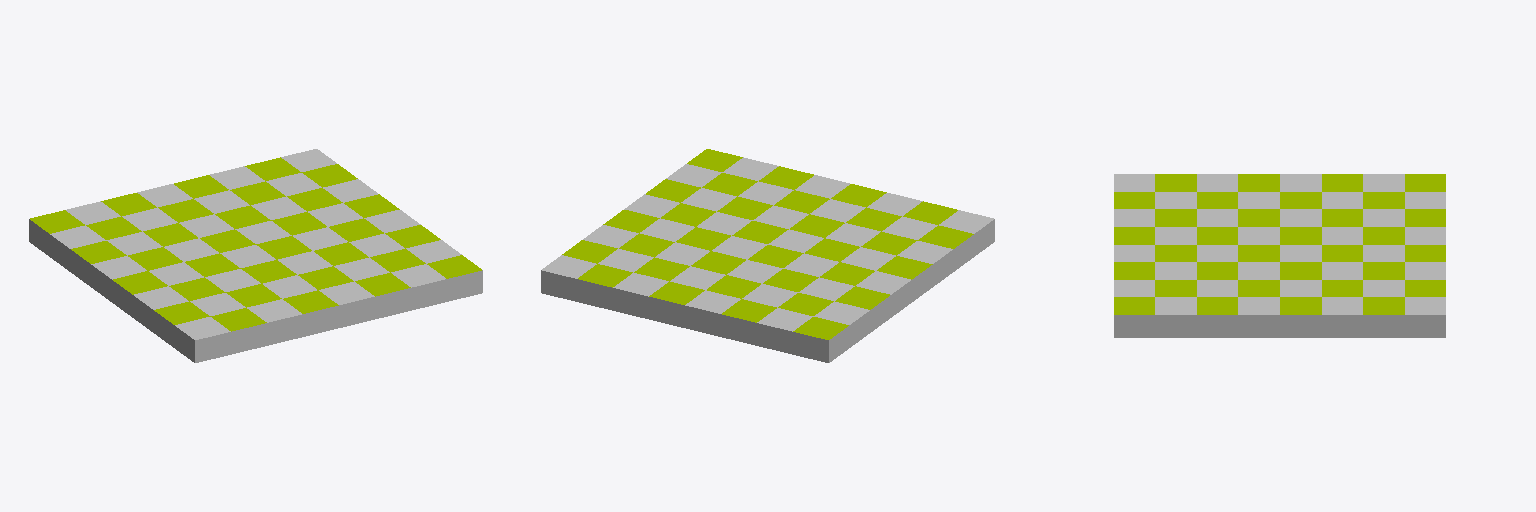
File: Test_field.obj
3 views of the same model, side by side, from view 1: azimuth 30°, elevation 25°; view 2: azimuth 150°, elevation 25°; view 3: azimuth 270°, elevation 25° (orthographic).
Parts seen in each view (by area): view 1: Cube_Cube.001; view 2: Cube_Cube.001; view 3: Cube_Cube.001.
Part boxes in pixels (left/top/right/bottom): Cube_Cube.001: left=29, top=149, right=482, bottom=362; Cube_Cube.001: left=541, top=149, right=994, bottom=362; Cube_Cube.001: left=1114, top=174, right=1445, bottom=337.
Bounding box in the file's own units: 9.13 × 0.6956 × 9.13.